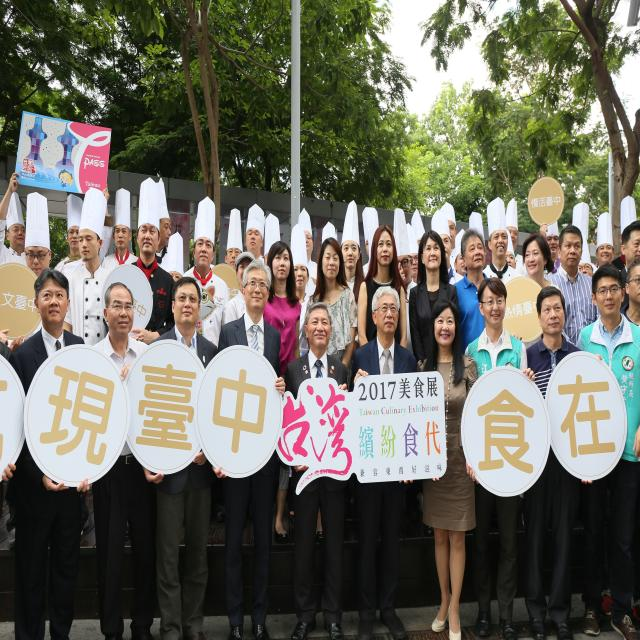body: (221, 192, 640, 282), (140, 275, 224, 640), (74, 278, 157, 640), (8, 266, 88, 640), (211, 258, 286, 640), (464, 276, 535, 637), (573, 261, 640, 640), (519, 282, 589, 640), (348, 283, 418, 638), (281, 299, 352, 640), (411, 296, 480, 640), (409, 230, 460, 538), (262, 241, 302, 542), (301, 237, 358, 391), (62, 186, 112, 346), (131, 178, 178, 346), (182, 195, 230, 349), (8, 190, 52, 354), (543, 223, 600, 349), (357, 225, 408, 351), (50, 185, 113, 273), (453, 228, 492, 357), (340, 200, 365, 356), (482, 195, 523, 288), (393, 207, 418, 354), (101, 187, 139, 272), (290, 222, 310, 358), (521, 232, 563, 296), (430, 209, 465, 285), (0, 170, 27, 266), (224, 250, 256, 326), (298, 207, 317, 297), (154, 180, 172, 271), (618, 282, 640, 329), (0, 452, 18, 488), (0, 323, 11, 356)
